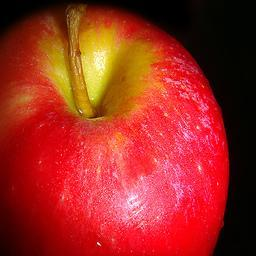apple: (1, 1, 229, 252)
